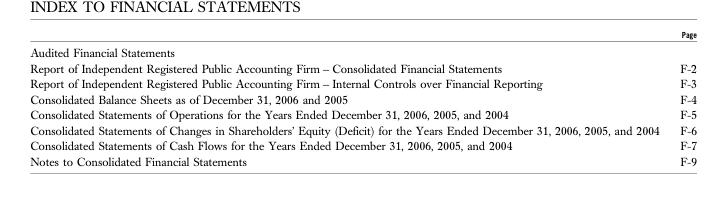table: (29, 28, 696, 168)
table column: (29, 28, 669, 168), (669, 28, 696, 168)
table column header: (29, 28, 696, 42)
table projected row header: (29, 42, 696, 60)
table row: (29, 42, 696, 60), (29, 60, 696, 76), (29, 91, 696, 107), (29, 122, 696, 138), (29, 76, 696, 91), (29, 107, 696, 122), (29, 138, 696, 153), (29, 153, 696, 168), (29, 28, 696, 42)
